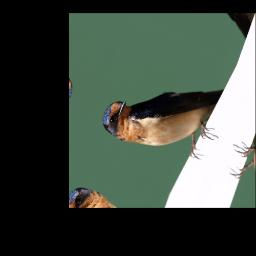Swallow: (97, 46, 234, 176)
